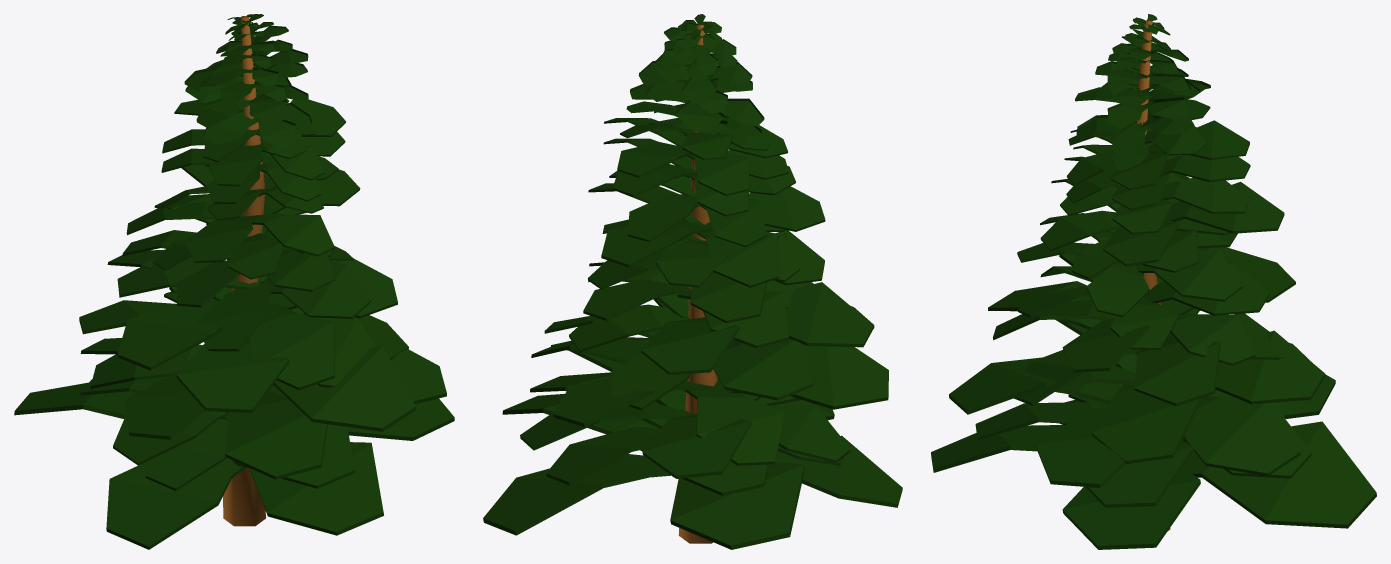
File: RW_pine_large_RB.fbx
The picture shows the model from 3 angles, left to right: view 1: azimuth 30°, elevation 25°; view 2: azimuth 150°, elevation 25°; view 3: azimuth 270°, elevation 25°; orthographic projection.
Parts seen in each view (by area): view 1: Plane.076; view 2: Plane.076; view 3: Plane.076.
Boxes of the visible parts, x1=… form: Plane.076: x1=14, y1=14, x2=454, y2=549; Plane.076: x1=483, y1=14, x2=902, y2=549; Plane.076: x1=931, y1=14, x2=1376, y2=549.
Size of the model in its own units: 12.85 by 17.39 by 13.71.
